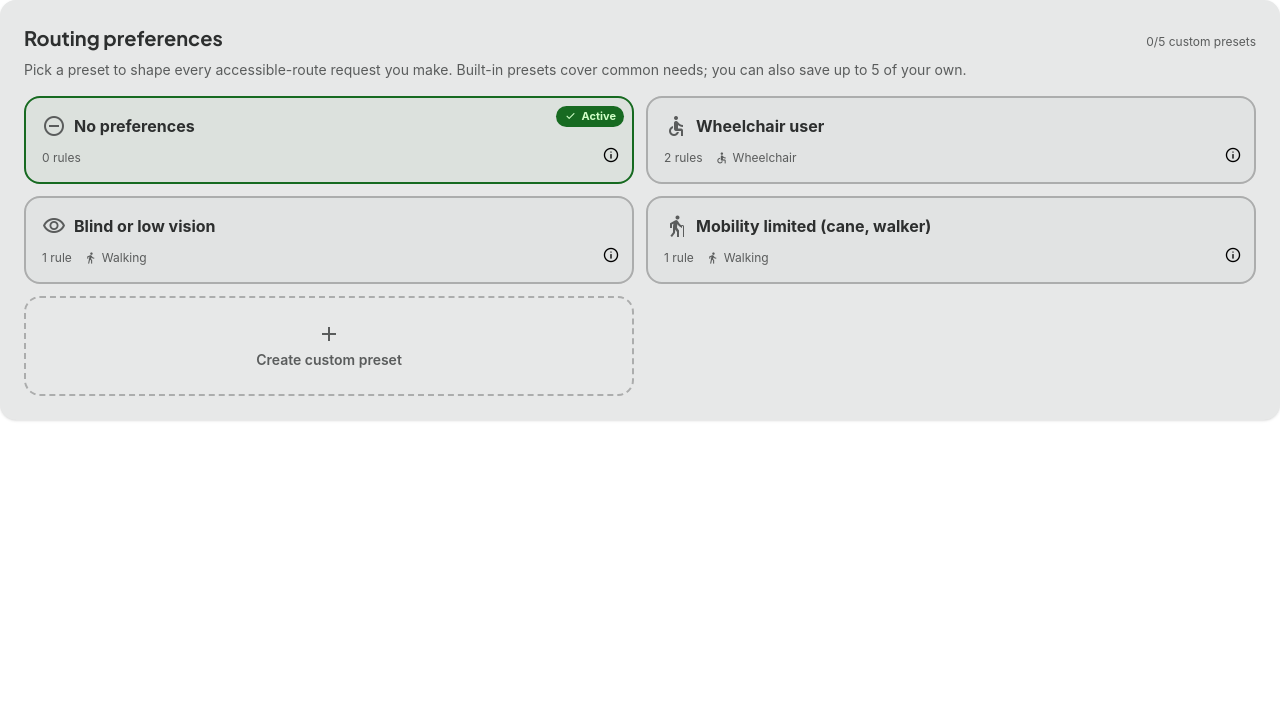
it: RoutingPreferencesSection › surfaces the API error message in the modal when create fails
This screenshot has width=1280, height=720.
Click the button "Create custom preset" at (329,346), box left=24, top=296, right=634, bottom=396
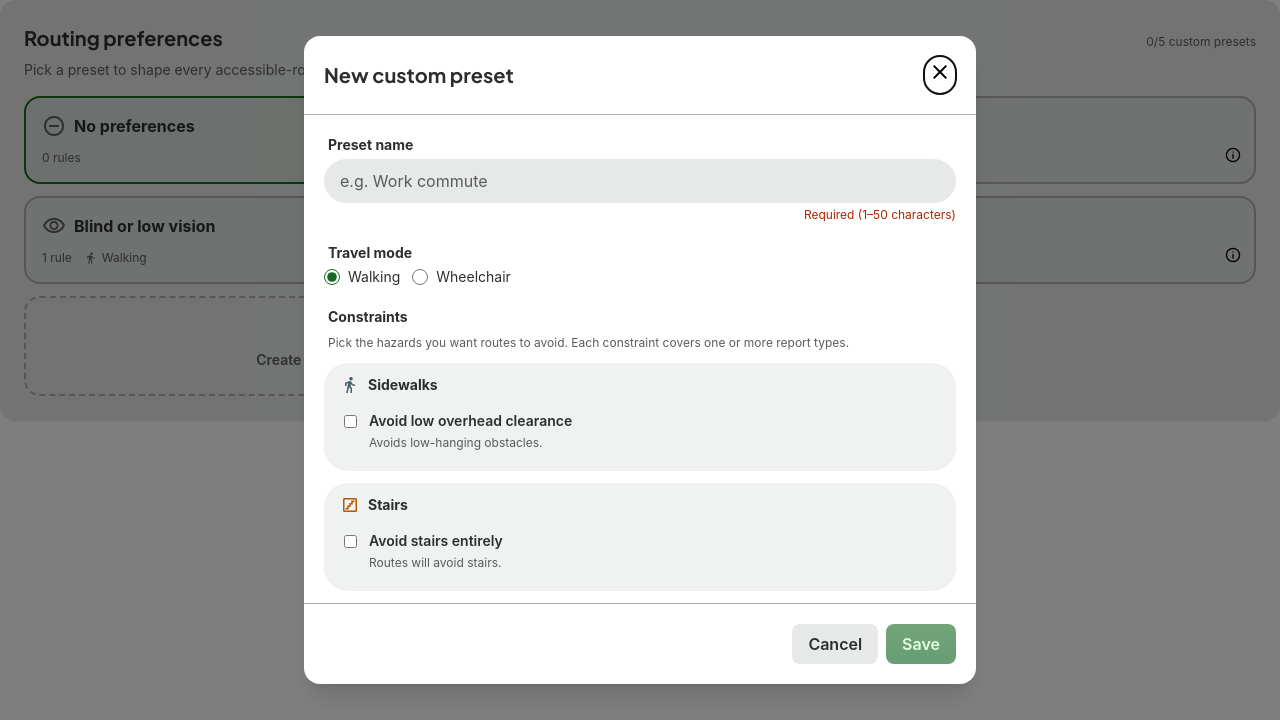
Type "Sixth" into the field labelled "Preset name" at (640,181), box left=324, top=159, right=956, bottom=203
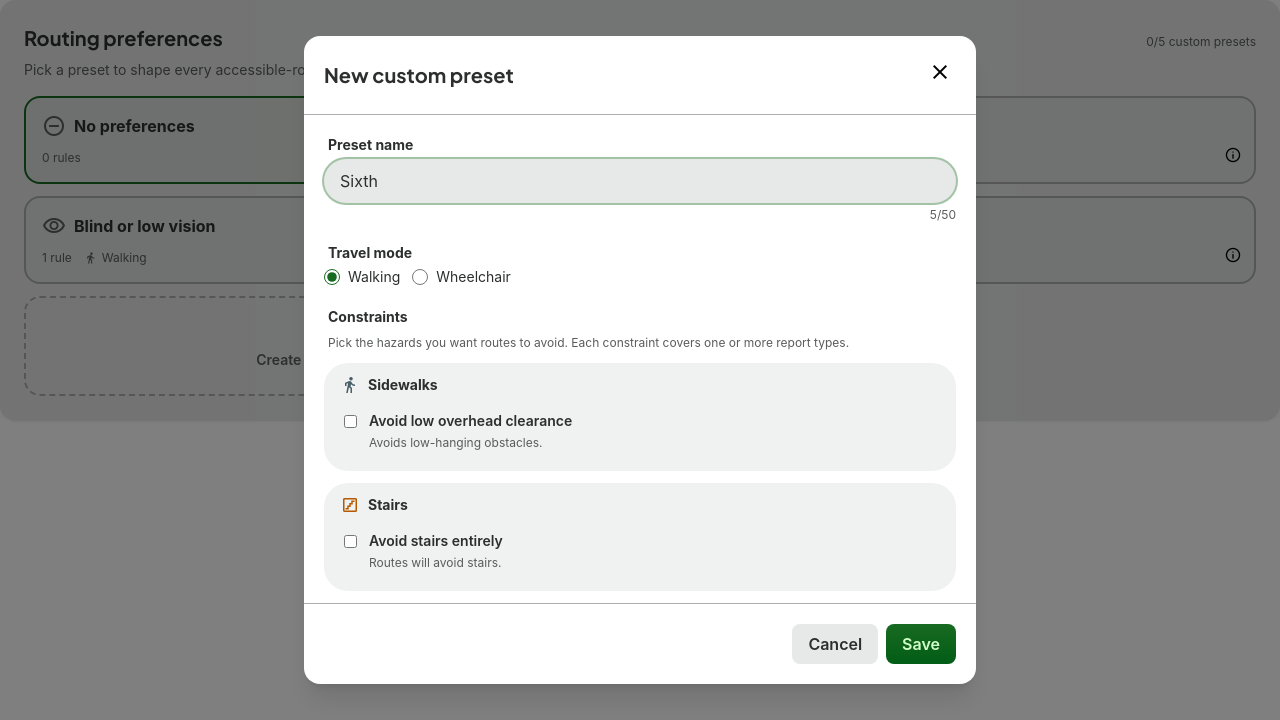
Click the button "Save" at (921,644), box left=886, top=624, right=956, bottom=664
(page scrolled)
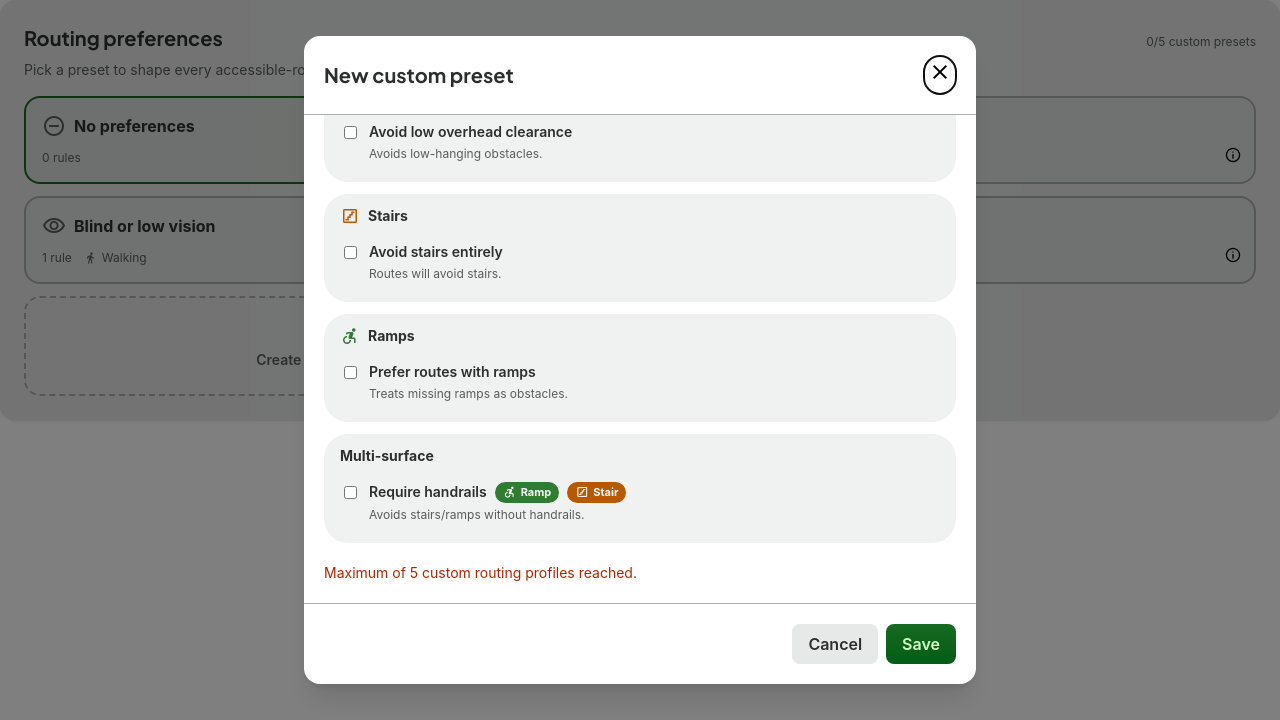
Expected: the text "Maximum of 5 custom routing profiles reached." is shown, left=324, top=564, right=637, bottom=580
